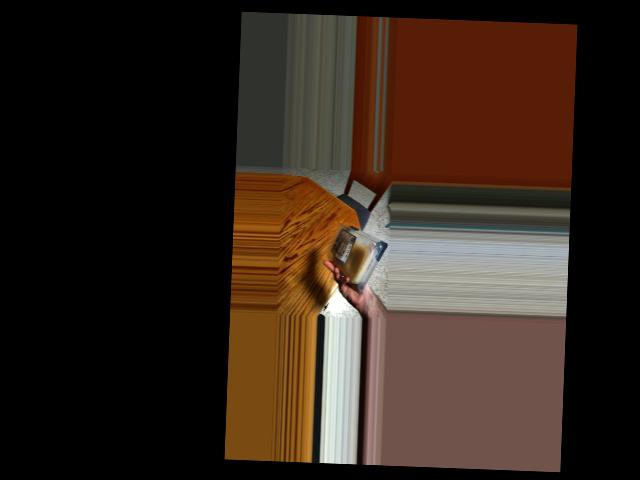cheese: (335, 223, 383, 291)
